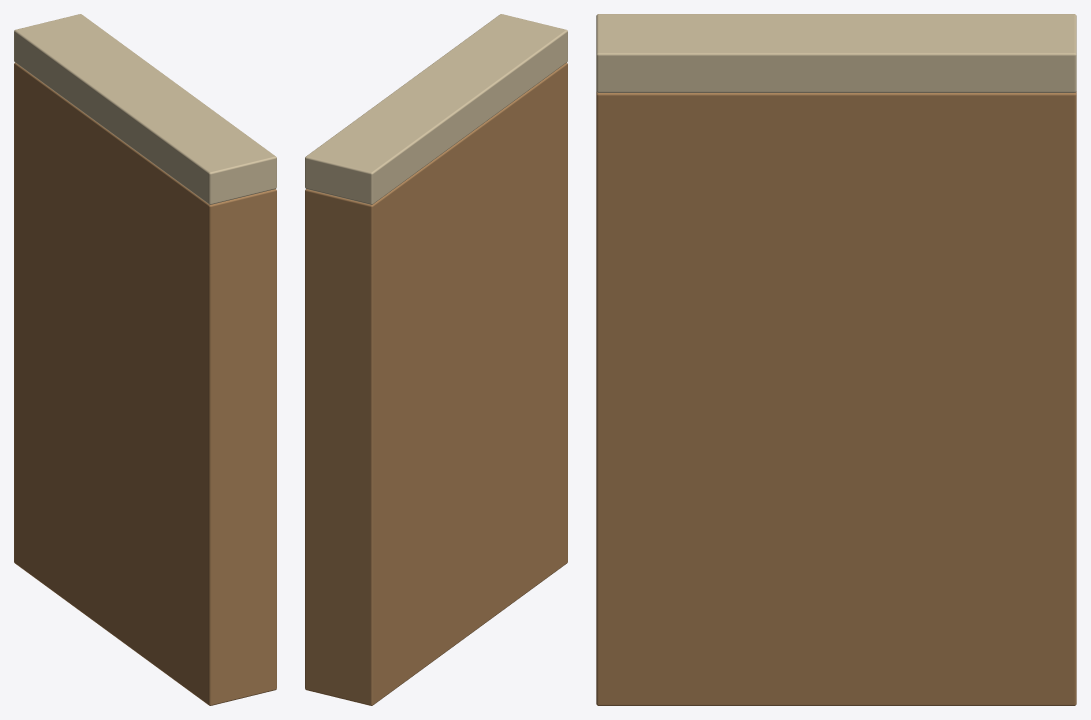
Rendered from kitchenFillerPanel.glb.
The picture shows the model from 3 angles, left to right: view 1: azimuth 30°, elevation 25°; view 2: azimuth 150°, elevation 25°; view 3: azimuth 270°, elevation 25°; orthographic projection. The views are drawn at different scales.
Visible parts, largest first — view 1: kitchenFillerPanel-part-1, kitchenFillerPanel-part-2; view 2: kitchenFillerPanel-part-1, kitchenFillerPanel-part-2; view 3: kitchenFillerPanel-part-1, kitchenFillerPanel-part-2.
Part boxes in pixels (x1,y1,x2,y2): kitchenFillerPanel-part-1: (14,62,276,705); kitchenFillerPanel-part-2: (14,14,276,204); kitchenFillerPanel-part-1: (305,62,567,705); kitchenFillerPanel-part-2: (305,14,567,204); kitchenFillerPanel-part-1: (596,91,1076,705); kitchenFillerPanel-part-2: (596,14,1076,92).
Bounding box in the file's own units: 0.12 × 0.9 × 0.6.
